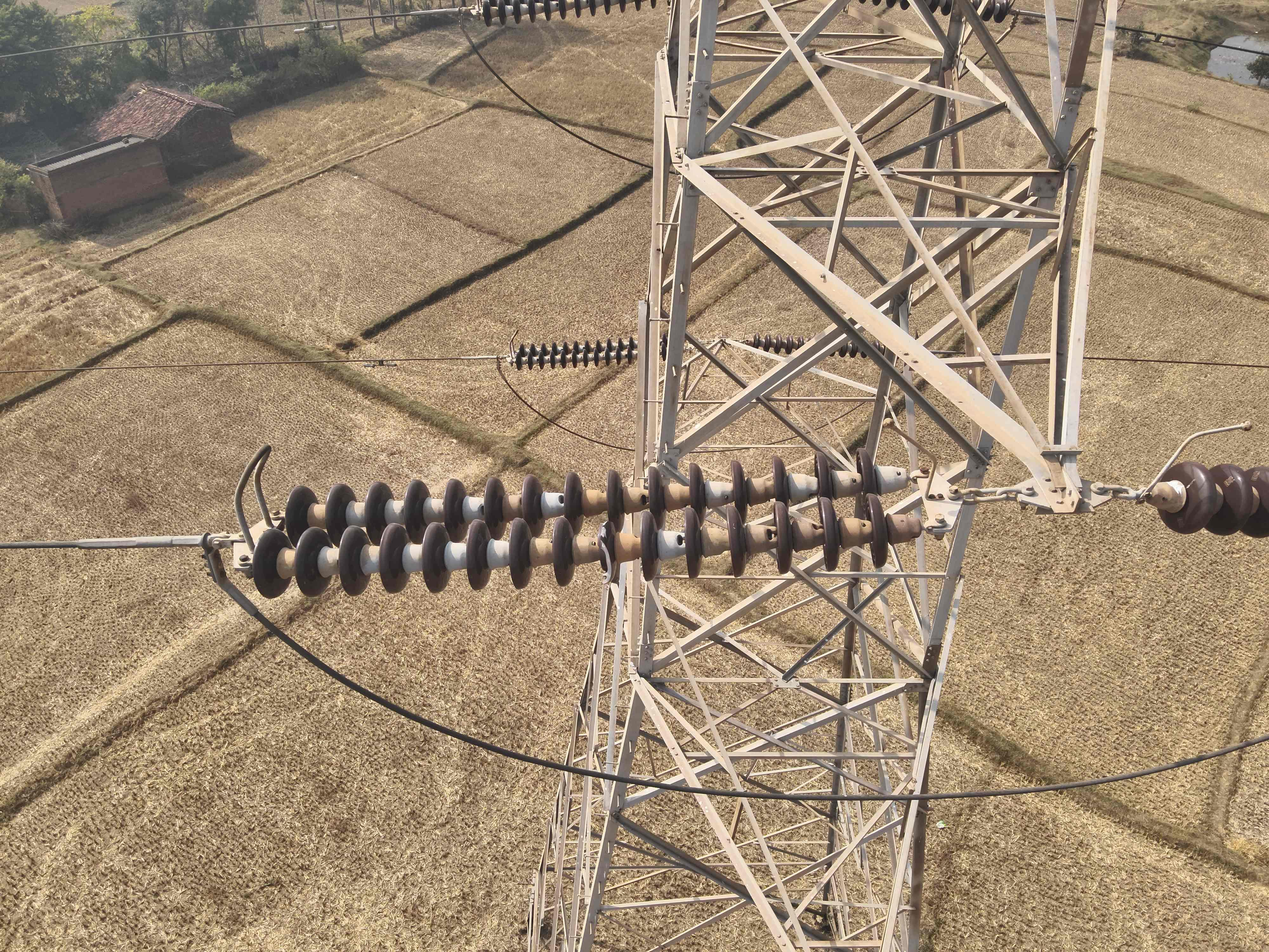broken_insulator: (588, 516, 625, 590)
